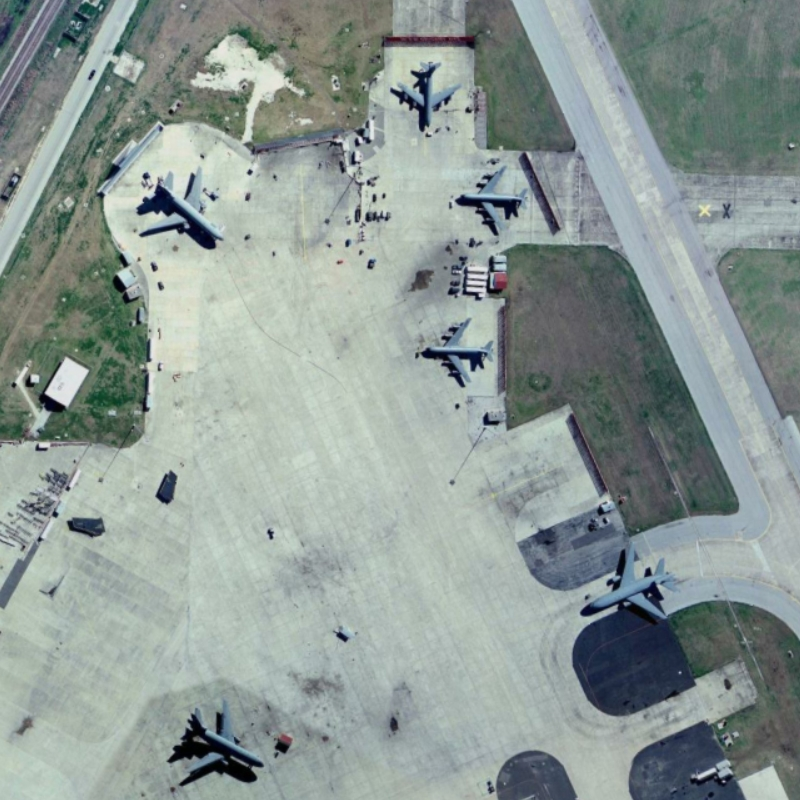A14: (449, 156, 536, 240), (411, 311, 503, 389), (389, 51, 469, 137)
A18: (573, 535, 685, 628), (165, 695, 275, 786), (132, 158, 227, 255)
